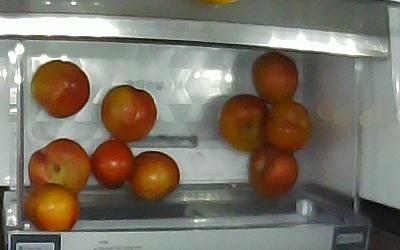prune: (28, 138, 90, 195), (31, 60, 90, 118), (101, 85, 158, 142), (249, 141, 298, 199), (220, 94, 268, 152), (23, 184, 80, 231), (129, 150, 179, 200), (91, 137, 137, 188), (266, 100, 311, 152), (252, 52, 298, 102)
